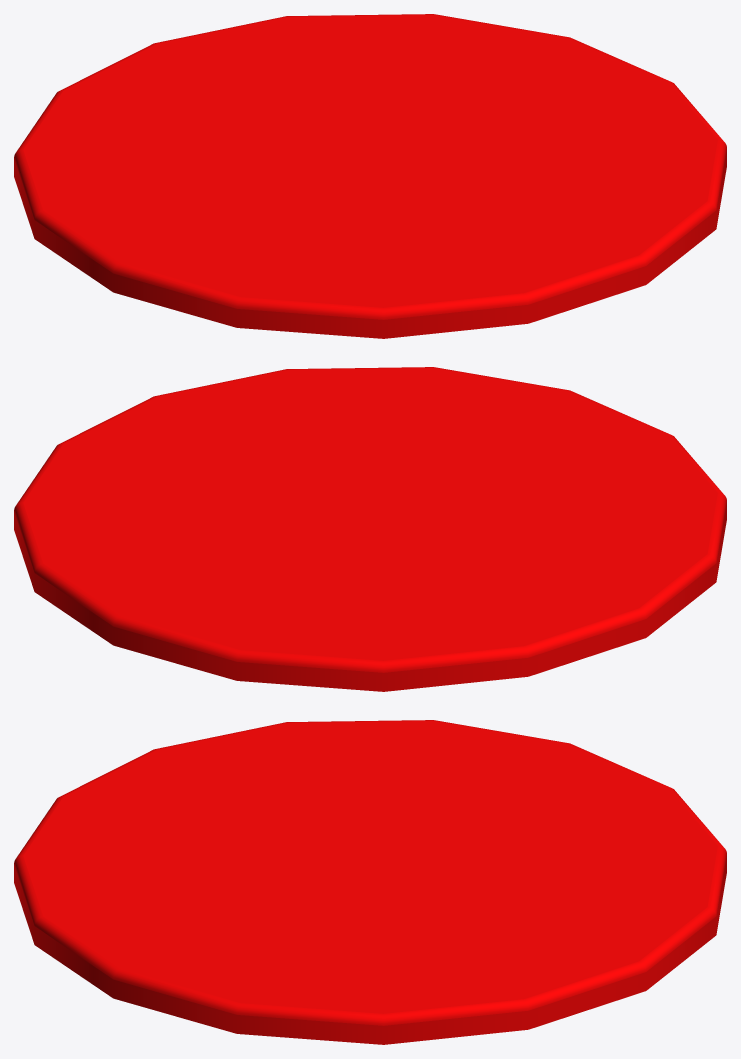
File: original-1.obj
3 views of the same model, one above another, from view 1: azimuth 30°, elevation 25°; view 2: azimuth 150°, elevation 25°; view 3: azimuth 270°, elevation 25° (orthographic).
Visible parts, largest first — view 1: Group2/mesh1/mesh1-geometry#mesh1-geometry; view 2: Group2/mesh1/mesh1-geometry#mesh1-geometry; view 3: Group2/mesh1/mesh1-geometry#mesh1-geometry.
Boxes of the visible parts, x1,y1,x2,y2 form: Group2/mesh1/mesh1-geometry#mesh1-geometry: [14, 14, 726, 338]; Group2/mesh1/mesh1-geometry#mesh1-geometry: [14, 367, 726, 691]; Group2/mesh1/mesh1-geometry#mesh1-geometry: [14, 720, 726, 1044].
Bounding box in the file's own units: 0.6249 × 0.0263 × 0.6261.
